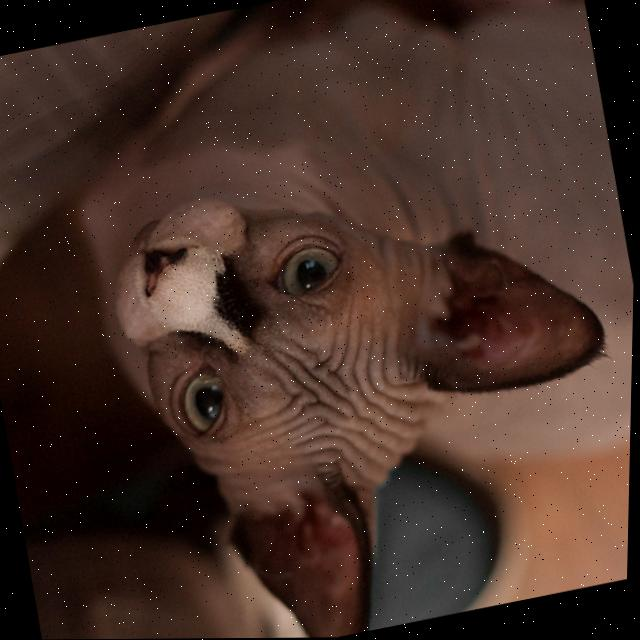Sphynx: (35, 0, 640, 640)
